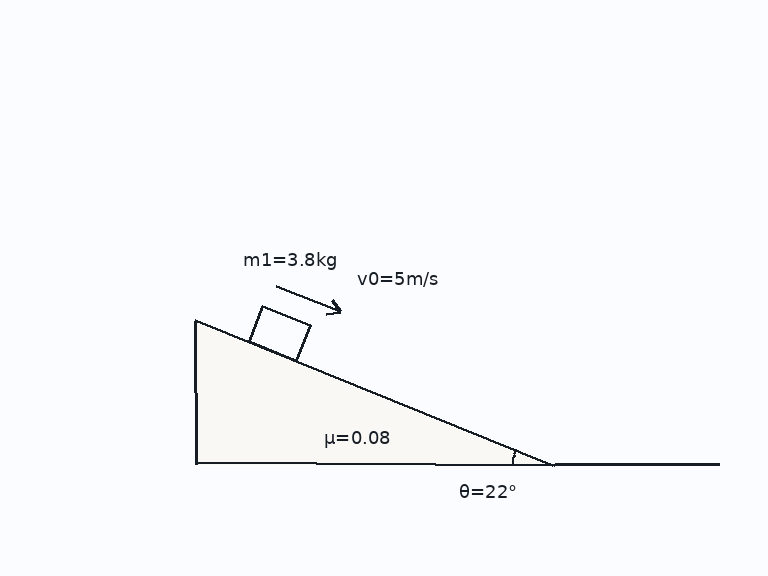block: (247, 304, 312, 362)
ramp: (194, 318, 555, 466)
